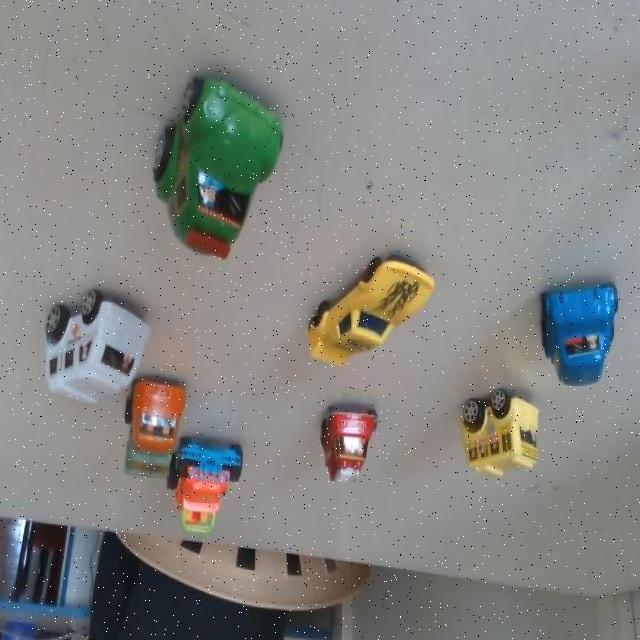car: (143, 90, 279, 252), (38, 271, 158, 420), (301, 246, 437, 372), (173, 439, 254, 542), (541, 282, 619, 385), (120, 373, 186, 488), (453, 384, 535, 476), (308, 389, 380, 492)
